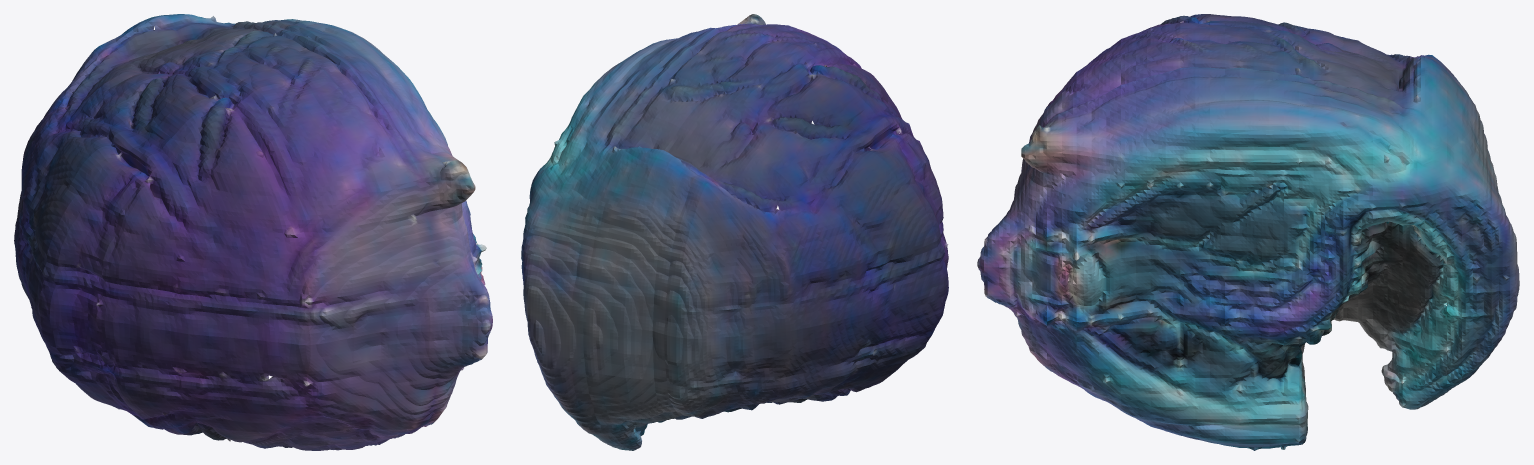
Rendered from eel.glb.
3 views of the same model, side by side, from view 1: azimuth 30°, elevation 25°; view 2: azimuth 150°, elevation 25°; view 3: azimuth 270°, elevation 25° (orthographic). The views are drawn at different scales.
Parts seen in each view (by area): view 1: world; view 2: world; view 3: world.
Boxes of the visible parts, <box> form: world: <box>14,14,492,450</box>; world: <box>521,14,948,450</box>; world: <box>977,14,1519,450</box>.
Bounding box in the file's own units: 0.745 × 0.7756 × 0.9951.
